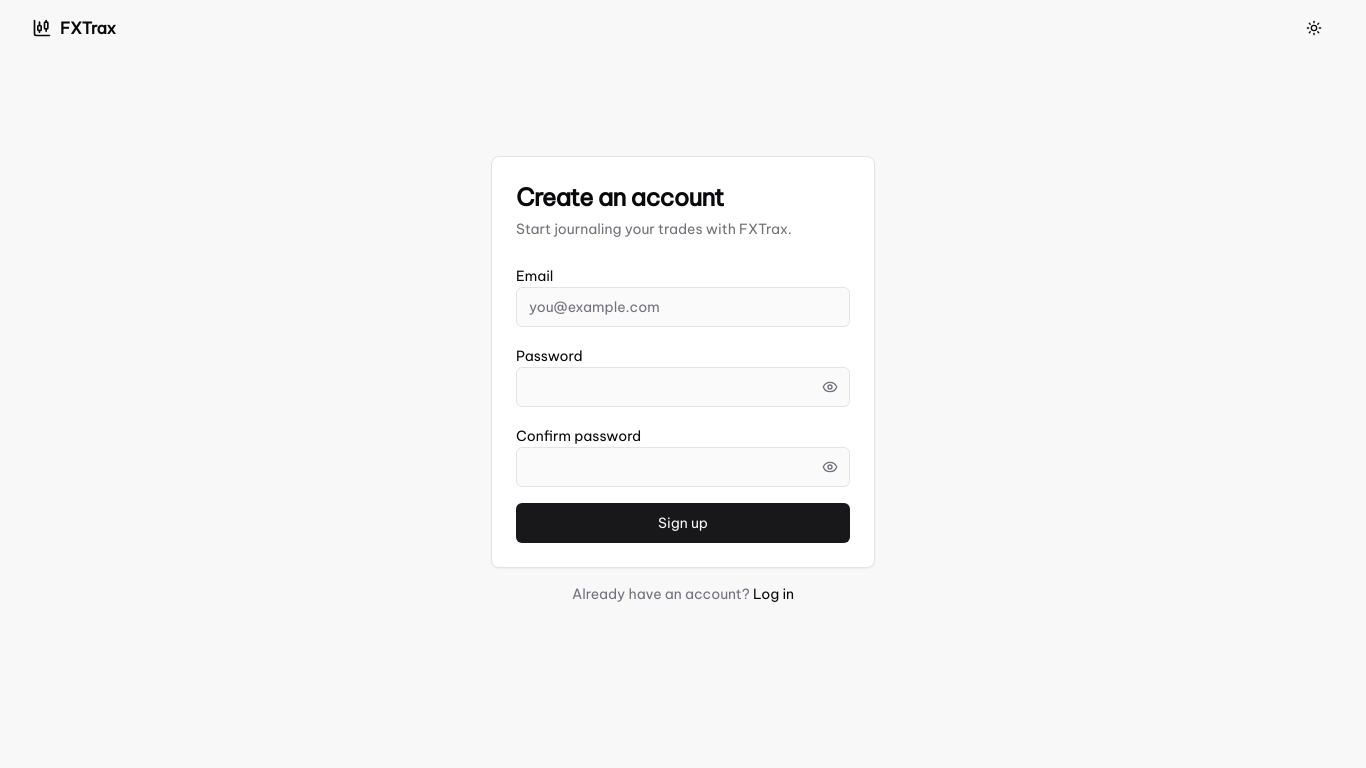
Test: sign up page › asks the user to confirm their email when Supabase requires it
Type "trader@example.com" into the field labelled "Email" at point(683, 307), box left=516, top=287, right=850, bottom=327
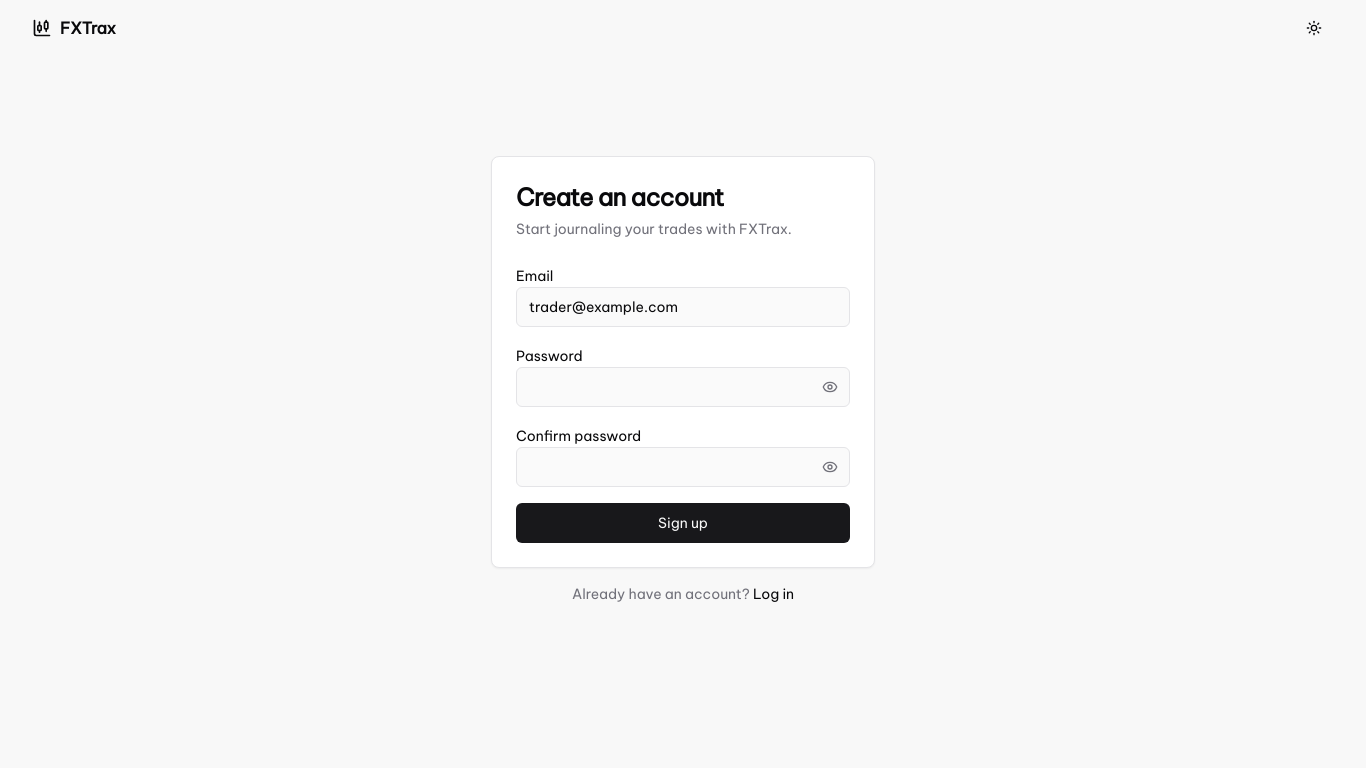
Type "secret123" into the password field labelled "Password" at point(683, 387), box left=516, top=367, right=850, bottom=407
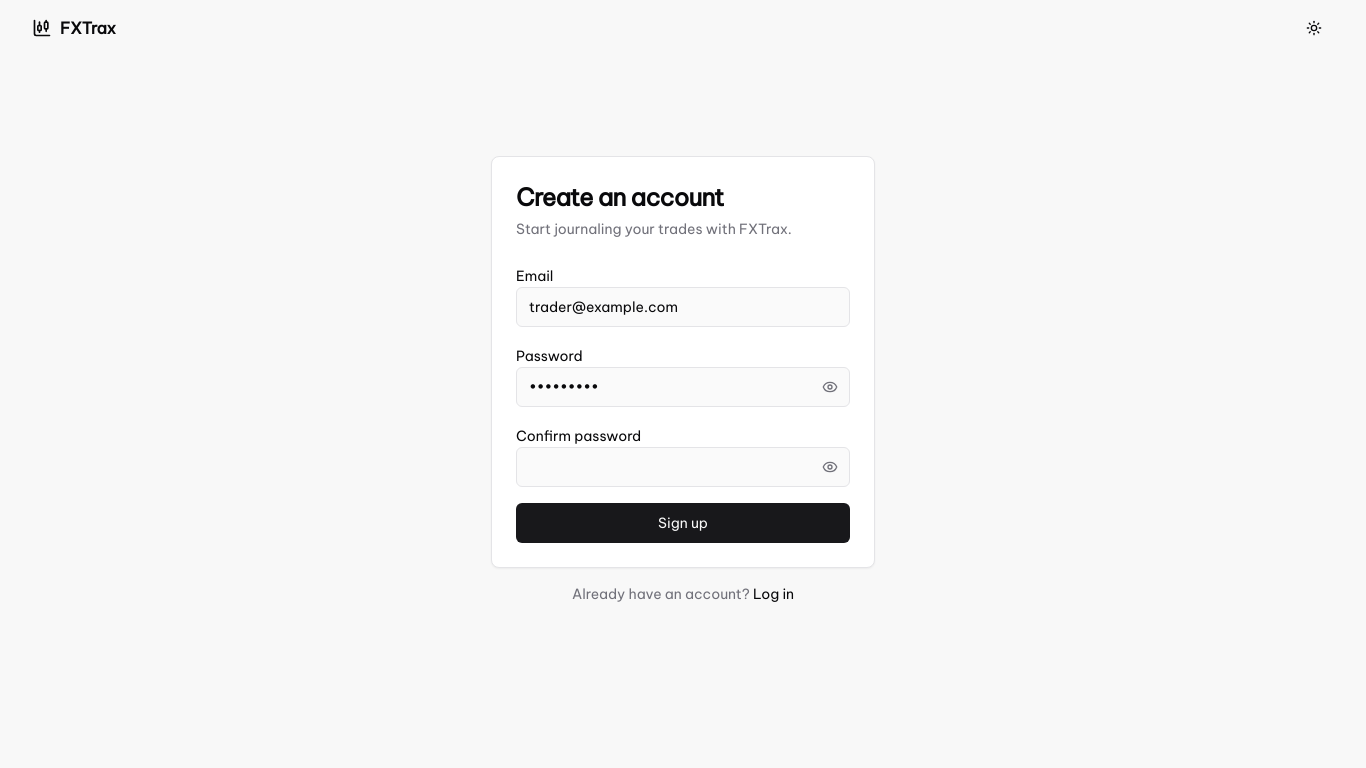
Type "secret123" into the password field labelled "Confirm password" at point(683, 467), box left=516, top=447, right=850, bottom=487
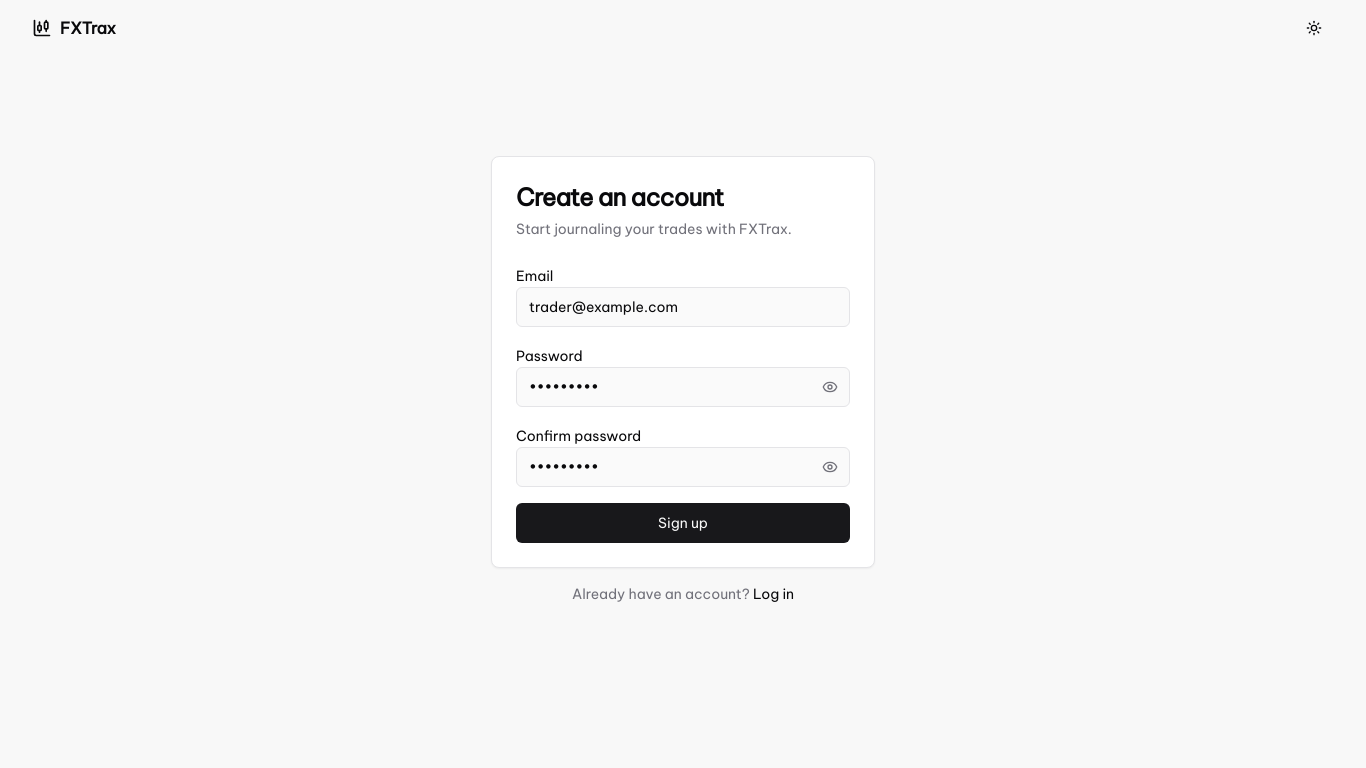
Click the button "Sign up" at point(683, 523), box left=516, top=503, right=850, bottom=543
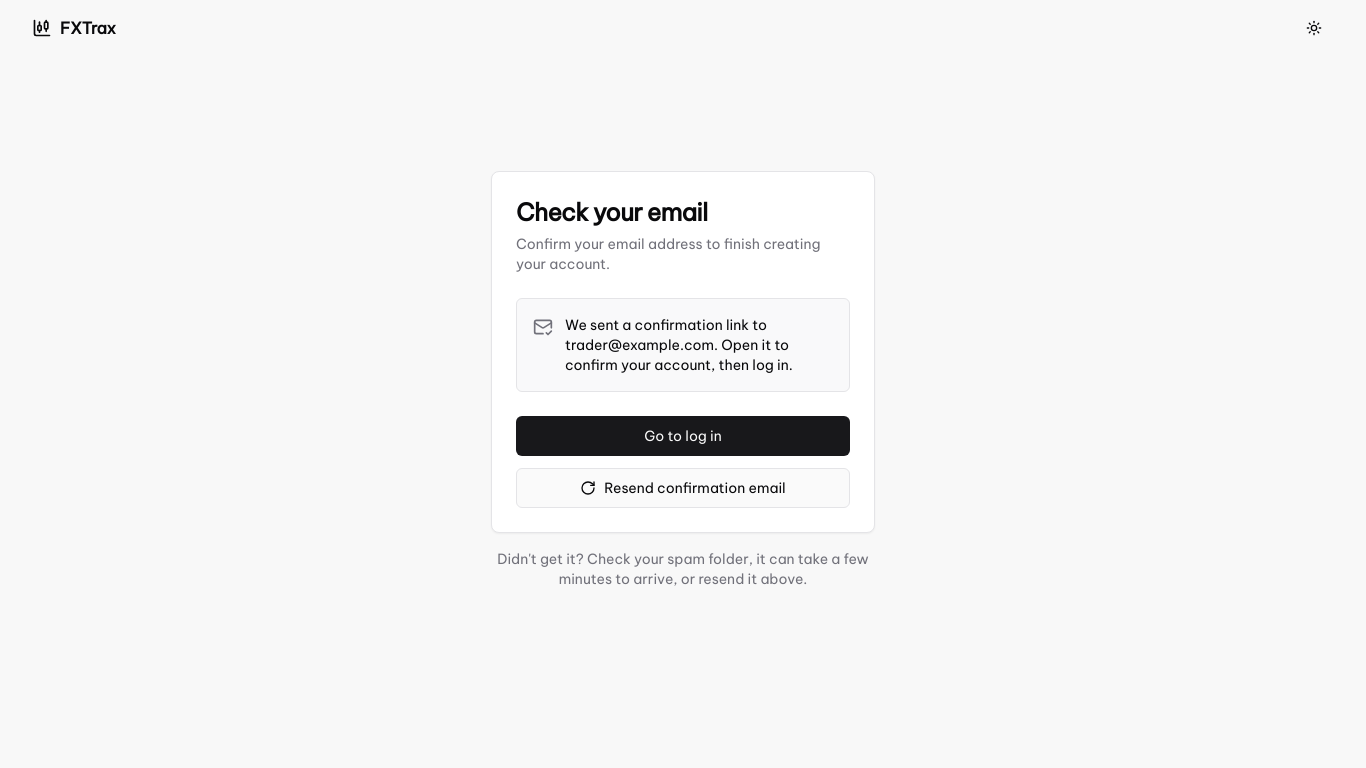
Check: the message shows "sent a confirmation link to trader@example.com", box left=516, top=298, right=850, bottom=392
Check: the button "Resend confirmation email" is shown, box left=516, top=468, right=850, bottom=508
